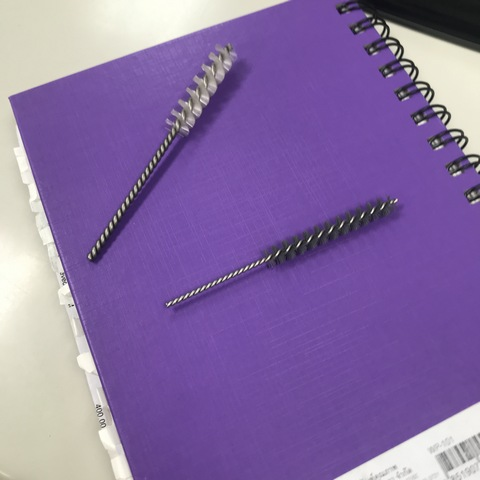Twist Brush-A: (157, 194, 414, 313)
Twist Brush-B: (82, 44, 246, 266)
